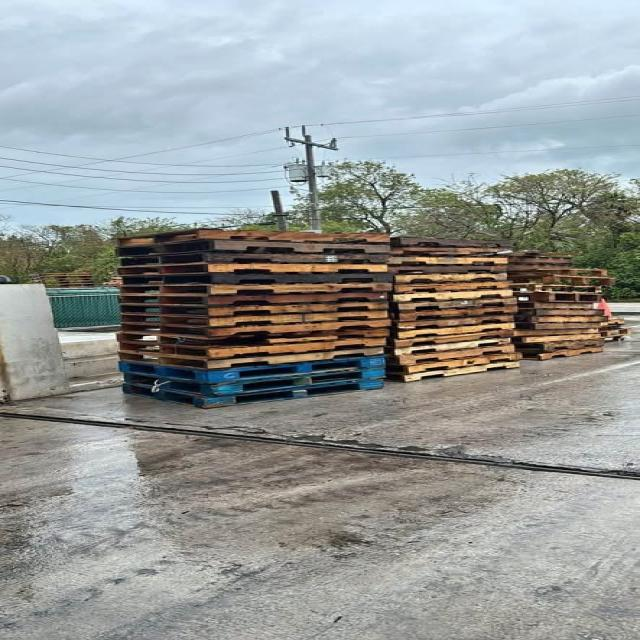non-igps: (114, 352, 400, 388), (117, 374, 389, 411), (119, 364, 392, 400), (113, 345, 391, 374), (115, 334, 392, 363), (112, 325, 395, 351), (111, 226, 396, 251), (117, 307, 392, 331), (117, 316, 396, 339), (113, 250, 401, 272), (116, 298, 394, 320), (111, 241, 395, 261), (115, 280, 398, 300), (114, 290, 392, 310), (115, 270, 402, 289), (113, 261, 393, 280), (381, 350, 528, 377), (379, 359, 524, 384), (381, 342, 518, 368), (377, 327, 519, 350), (378, 335, 514, 359), (393, 312, 519, 334), (394, 320, 519, 342), (395, 294, 523, 315), (388, 286, 517, 306), (394, 304, 522, 324), (391, 279, 513, 296), (511, 336, 609, 356), (383, 262, 512, 277), (390, 270, 510, 286), (384, 246, 515, 260), (387, 236, 514, 250), (502, 274, 619, 288), (382, 255, 514, 267), (515, 346, 605, 362), (504, 281, 604, 295), (509, 291, 607, 305), (507, 332, 604, 346), (504, 267, 611, 278), (508, 320, 606, 332), (510, 326, 604, 338), (510, 314, 611, 325), (511, 308, 612, 318), (514, 300, 596, 311), (504, 254, 576, 264), (503, 262, 577, 270), (597, 327, 635, 340), (595, 322, 629, 335), (595, 316, 629, 328)
